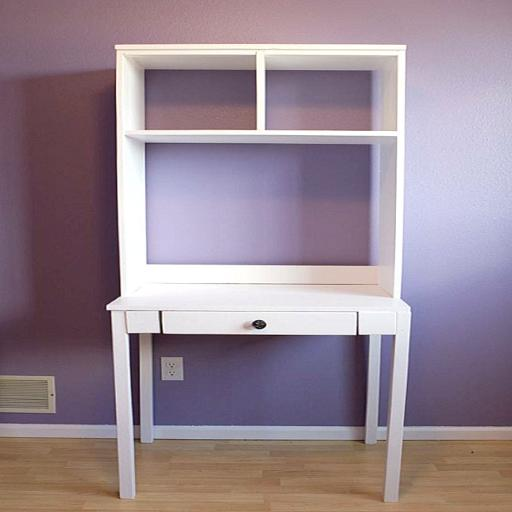desk: (106, 44, 410, 503)
wall: (0, 0, 512, 440)
